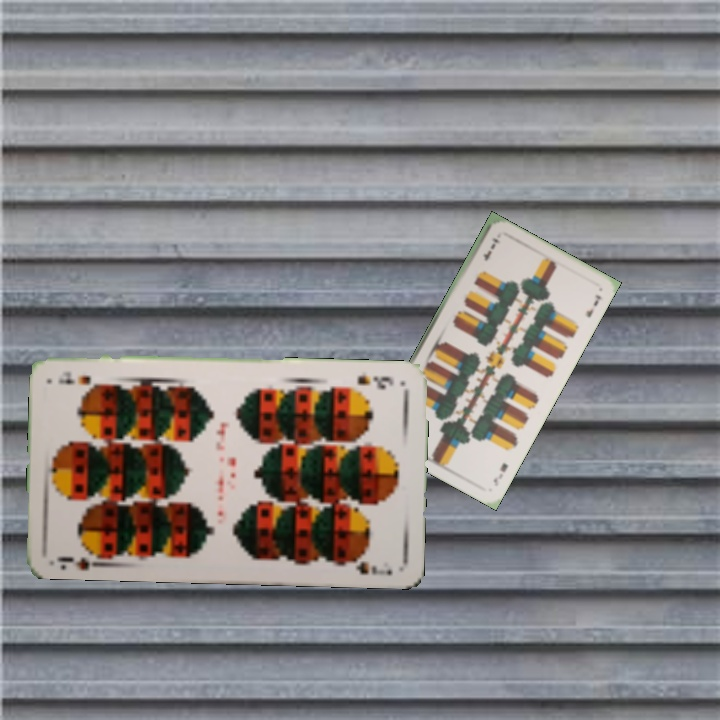E7: (479, 233, 501, 263), (489, 459, 511, 489)
S9: (53, 544, 108, 572), (353, 370, 396, 392)
